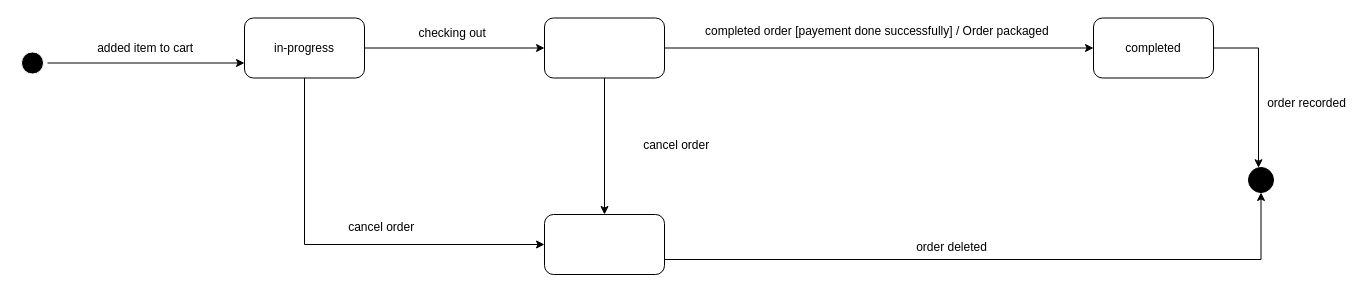
Image size: 1372x292. Some labels were removed from this diagram. Here are the shapes that lost their labels. From the top down, the centre of each, then its label:
At (604,47): "confirmed".
At (604,244): "cancelled".
